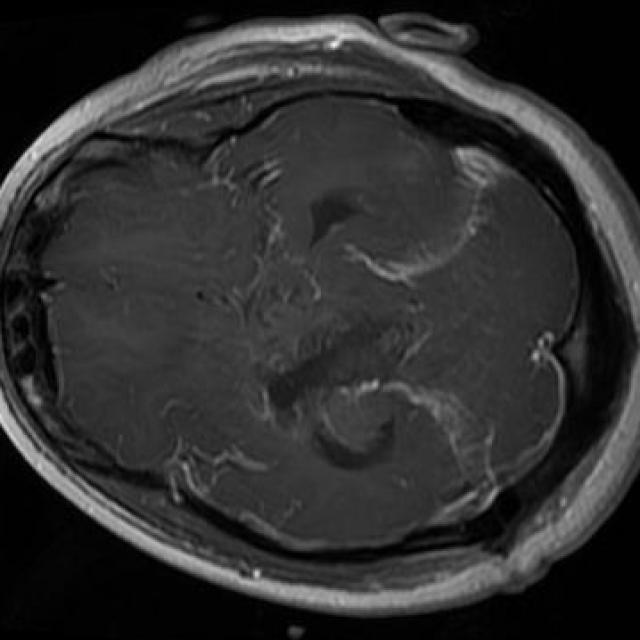glioma: (267, 317, 430, 469)
